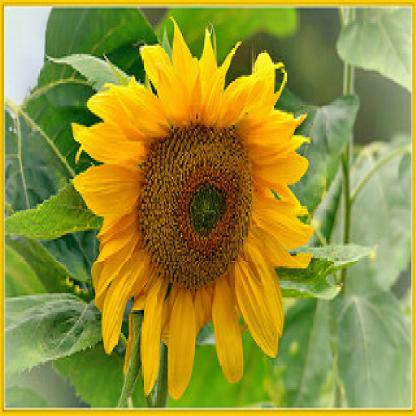SUN FLOWER: (56, 22, 352, 400)
